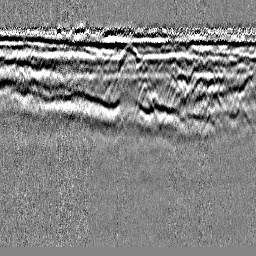cavity: (117, 40, 142, 69)
